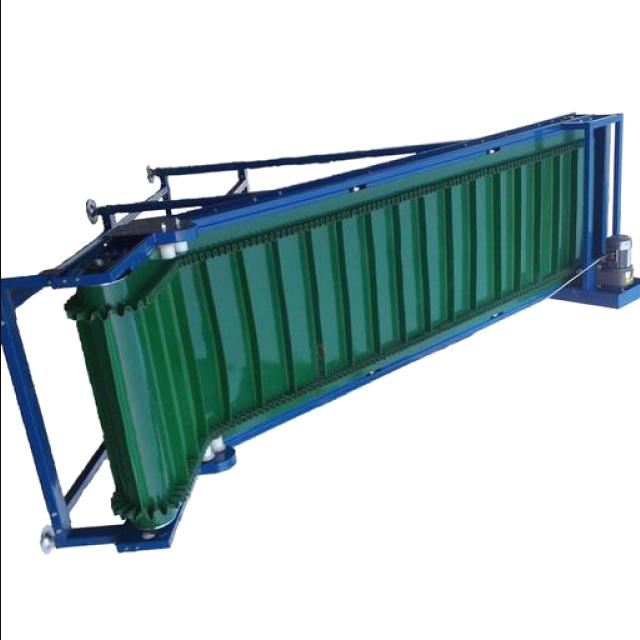conveyor: (79, 140, 586, 524)
